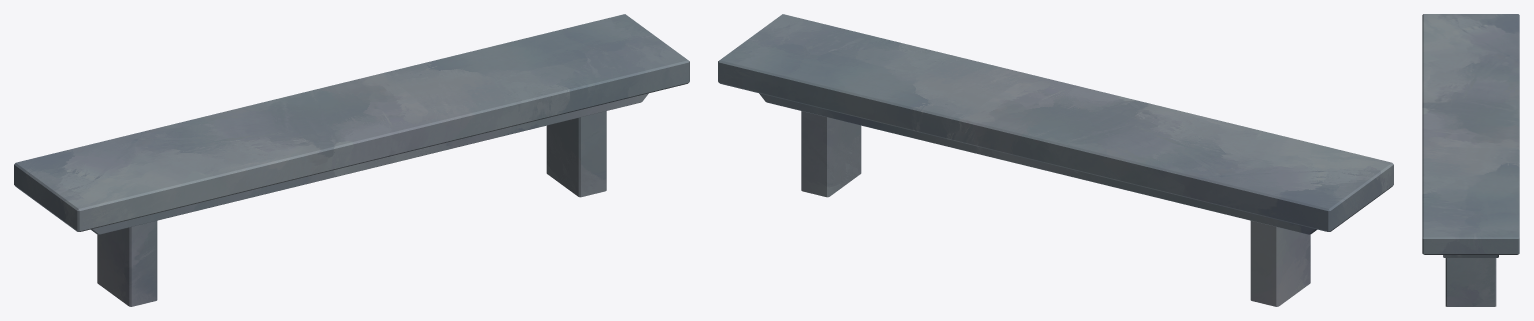
Rendered from Bench.fbx.
3 views of the same model, side by side, from view 1: azimuth 30°, elevation 25°; view 2: azimuth 150°, elevation 25°; view 3: azimuth 270°, elevation 25° (orthographic). The views are drawn at different scales.
Visible parts, largest first — view 1: Bench; view 2: Bench; view 3: Bench.
Boxes of the visible parts, <box> form: Bench: <box>14,14,689,306</box>; Bench: <box>718,14,1393,306</box>; Bench: <box>1422,14,1519,306</box>.
Bounding box in the file's own units: 202 × 39.45 × 37.06.
